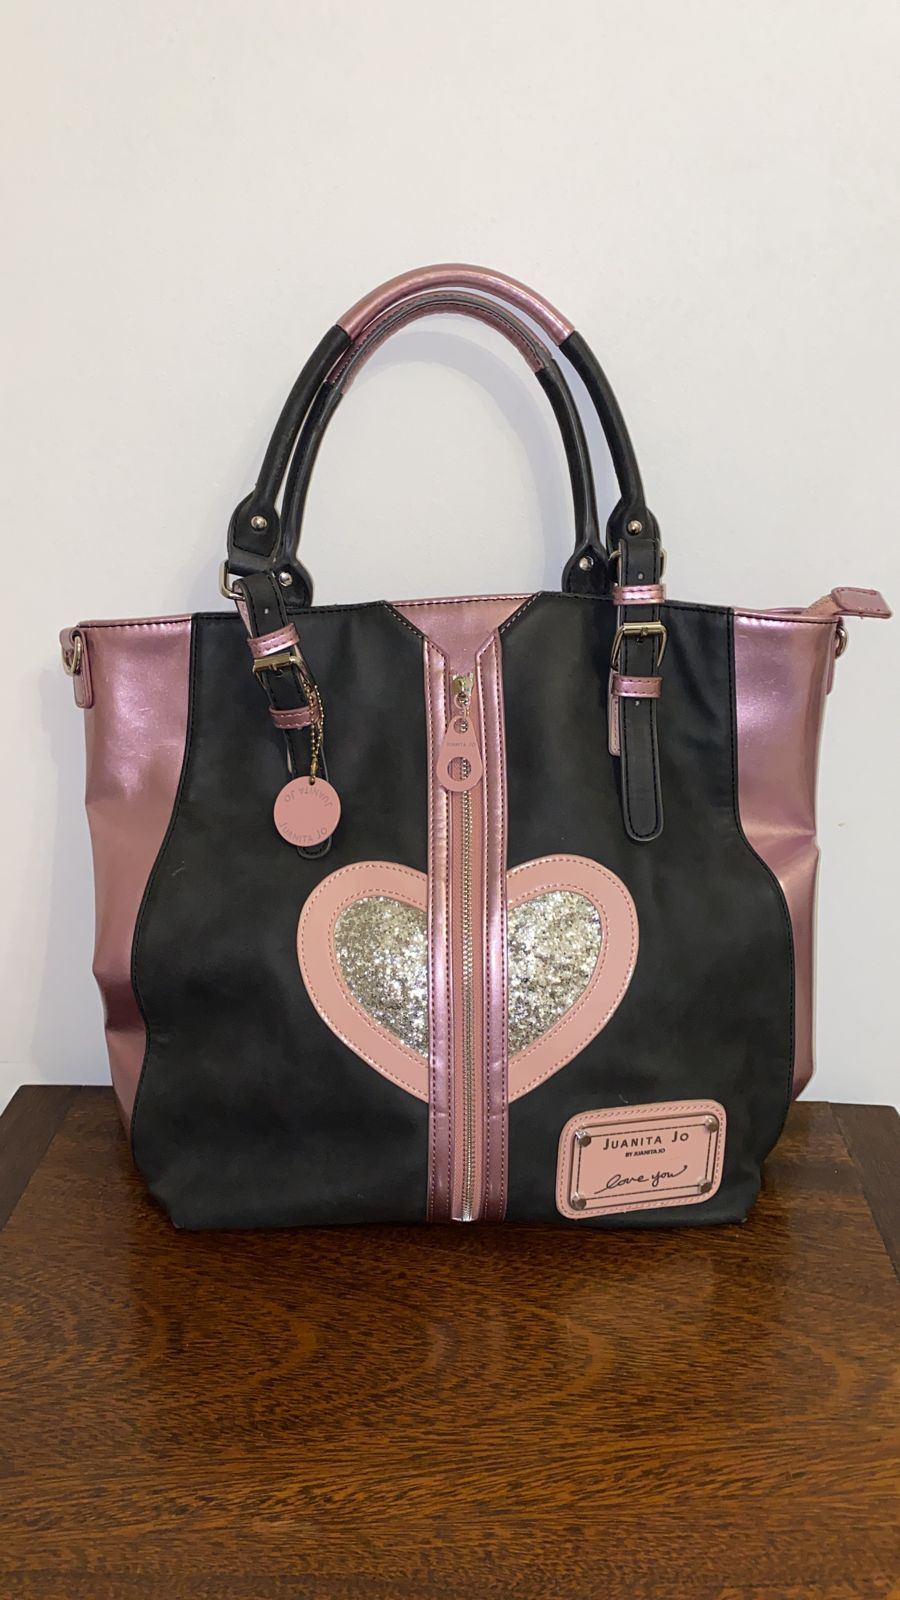cartera: (58, 233, 884, 1245)
cuero: (114, 662, 789, 887)
